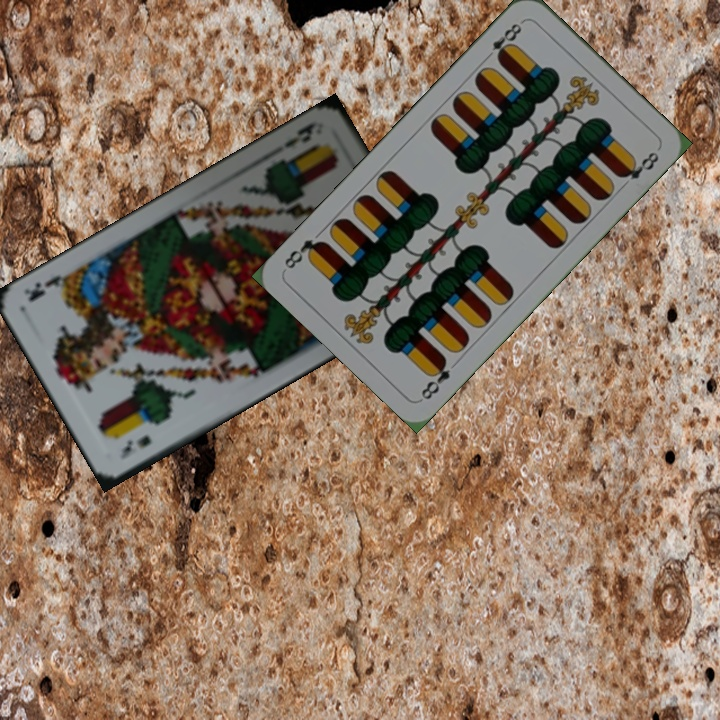E8: (480, 17, 527, 64), (417, 354, 453, 403)
EK: (280, 118, 319, 151), (115, 431, 154, 462)
